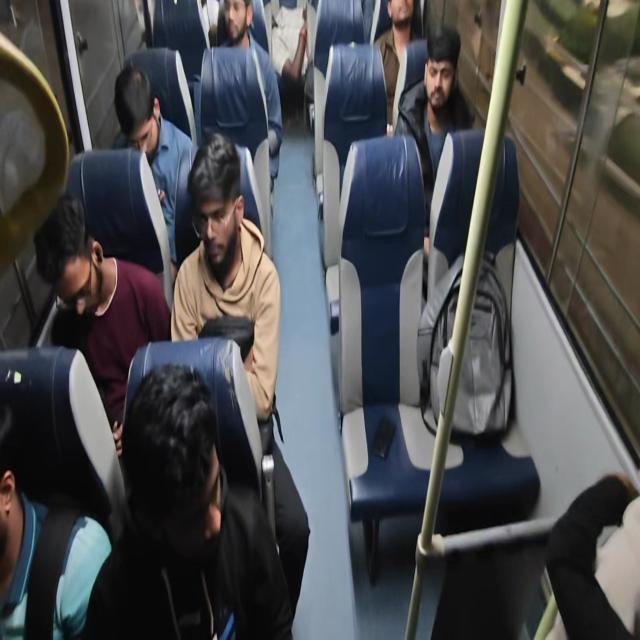person: (101, 365, 241, 595), (31, 192, 107, 320), (0, 359, 41, 595), (188, 118, 245, 279), (116, 68, 171, 179), (419, 29, 463, 120), (221, 0, 259, 46), (386, 0, 424, 35)
